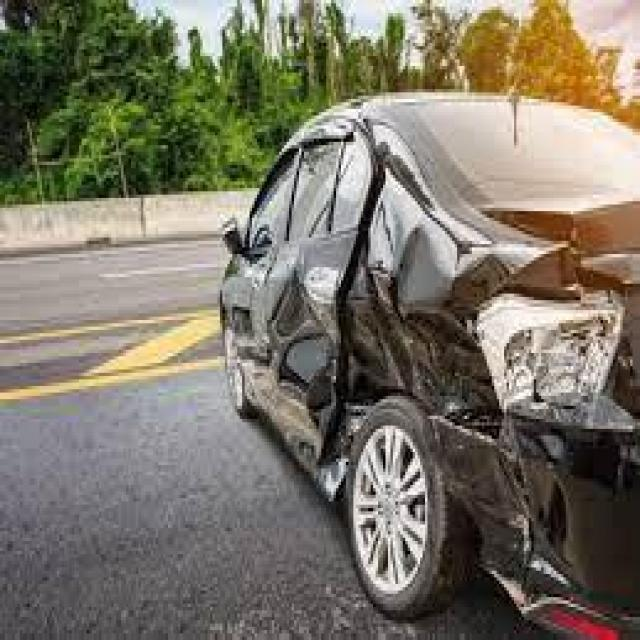damaged: (262, 204, 581, 614)
